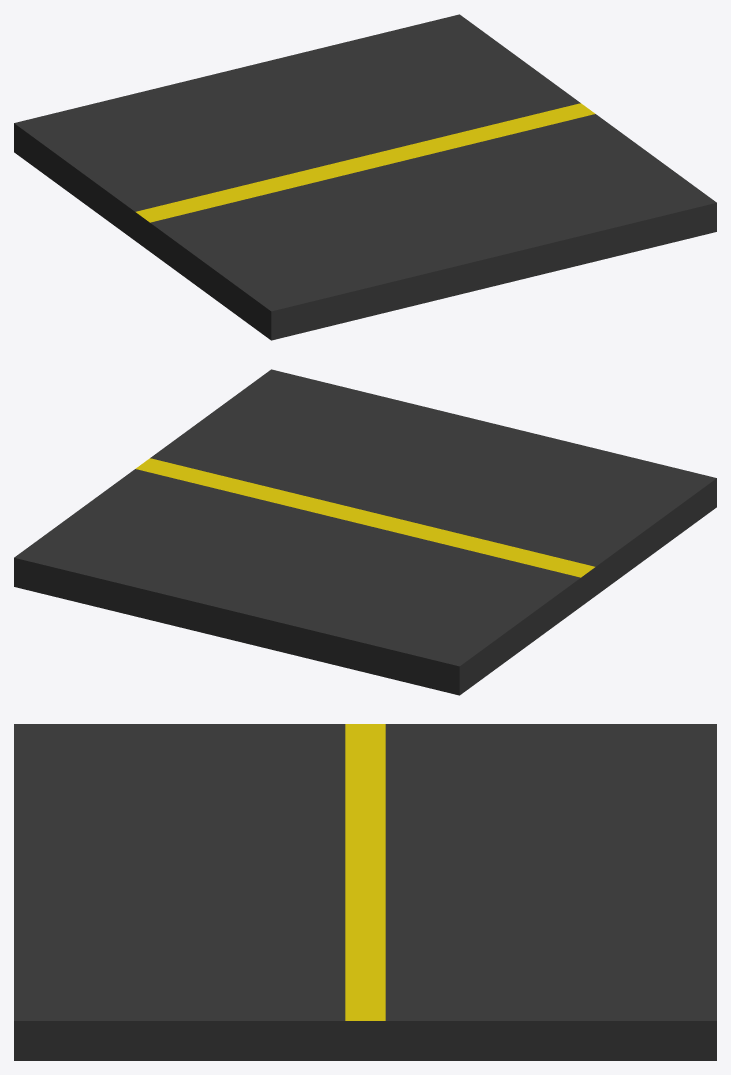
File: sm_test_street1.fbx
The picture shows the model from 3 angles, top to bottom: view 1: azimuth 30°, elevation 25°; view 2: azimuth 150°, elevation 25°; view 3: azimuth 270°, elevation 25°; orthographic projection. The views are drawn at different scales.
Visible parts, largest first — view 1: Cube; view 2: Cube; view 3: Cube.
Part boxes in pixels (x1,y1,x2,y2): Cube: (14, 14, 716, 340); Cube: (14, 369, 716, 695); Cube: (14, 724, 716, 1060).
Bounding box in the file's own units: 800 × 50 × 800.
